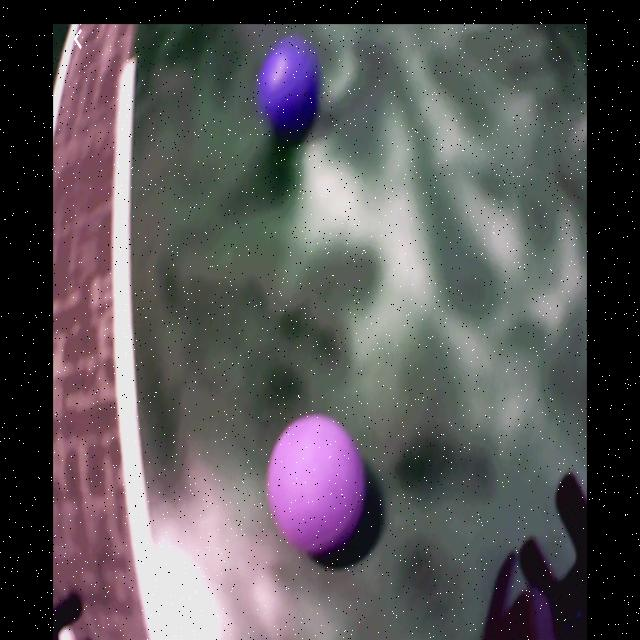ball: (268, 414, 367, 560), (257, 36, 322, 139)
